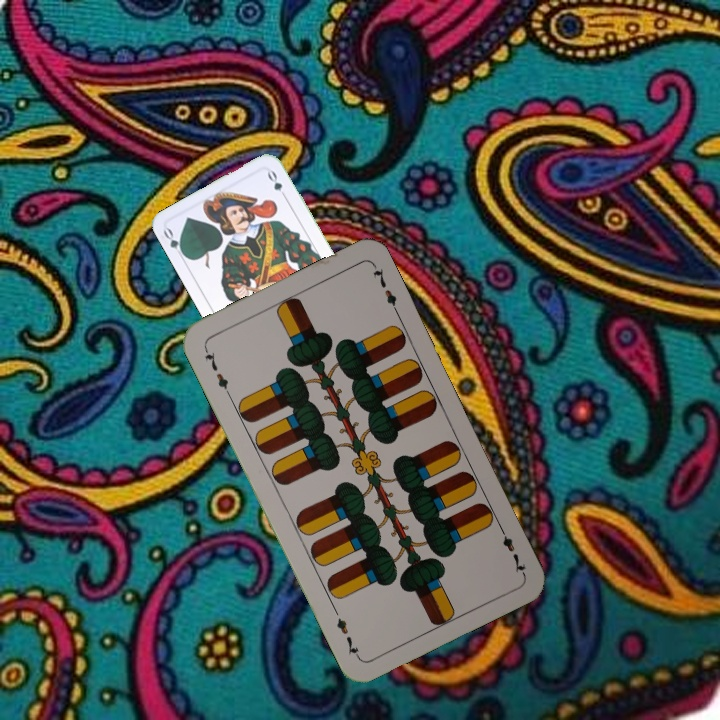E7: (200, 343, 233, 399), (495, 521, 528, 577)
GO: (159, 224, 189, 262)
